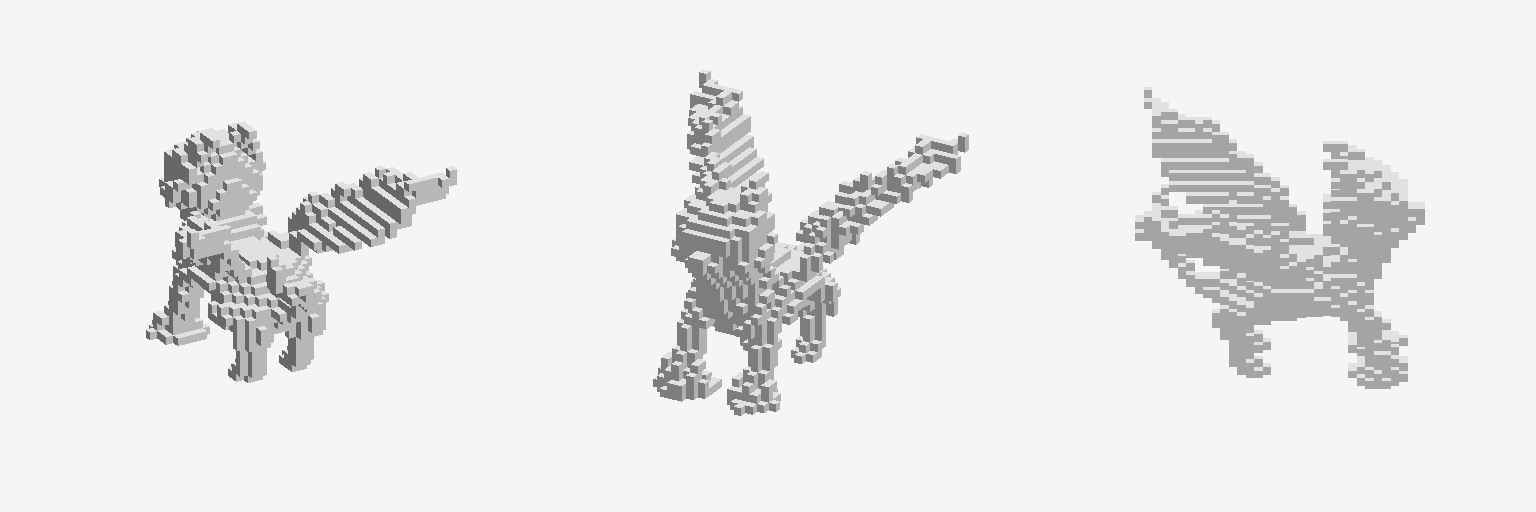
The model's file is grifo.obj.
3 views of the same model, side by side, from view 1: azimuth 30°, elevation 25°; view 2: azimuth 150°, elevation 25°; view 3: azimuth 270°, elevation 25° (orthographic).
Parts seen in each view (by area): view 1: object 1; view 2: object 1; view 3: object 1.
Boxes of the visible parts, x1,y1,x2,y2 form: object 1: [146, 121, 456, 382]; object 1: [653, 69, 968, 415]; object 1: [1135, 87, 1424, 388].
Bounding box in the file's own units: 3.6 × 2.7 × 3.4.